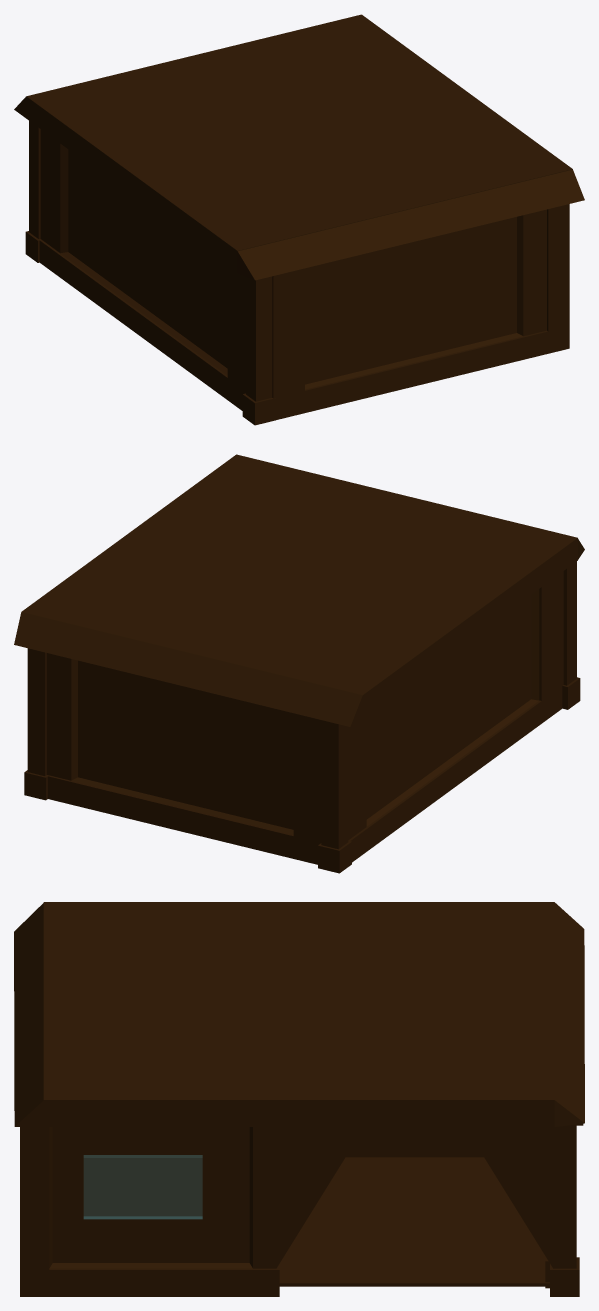
The model's file is wareHouse.gltf.
3 renders of one model, top to bottom at view 1: azimuth 30°, elevation 25°; view 2: azimuth 150°, elevation 25°; view 3: azimuth 270°, elevation 25°, orthographic. The views are drawn at different scales.
Visible parts, largest first — view 1: Pole.001; view 2: Pole.001; view 3: Pole.001, Cube.
Boxes of the visible parts, left/top/right/bottom form: Pole.001: left=14, top=14, right=584, bottom=425; Pole.001: left=14, top=454, right=584, bottom=873; Pole.001: left=14, top=902, right=584, bottom=1296; Cube: left=84, top=1155, right=202, bottom=1218.
Bounding box in the file's own units: 31.48 × 15.17 × 38.38.
